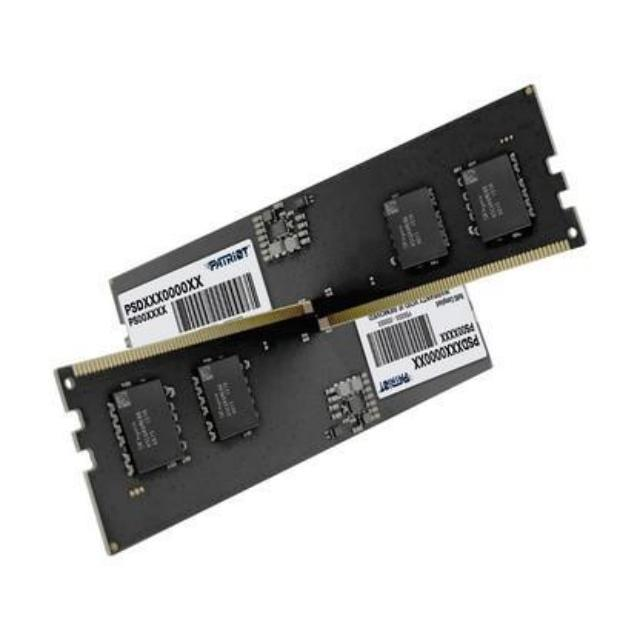RAM: (26, 76, 588, 564)
